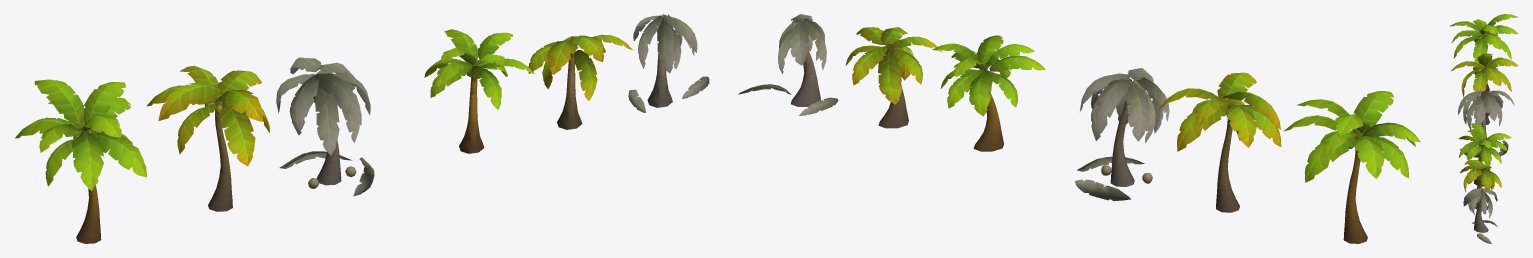
The model's file is SM_Coconut 1.fbx.
3 renders of one model, left to right at view 1: azimuth 30°, elevation 25°; view 2: azimuth 150°, elevation 25°; view 3: azimuth 270°, elevation 25°, orthographic. The views are drawn at different scales.
Parts seen in each view (by area): view 1: SM_Coconut2_good, SM_Coconut2_bad, SM_Coconut2_dead, polySurface18, polySurface1, polySurface7, polySurface30, polySurface26, polySurface21, polySurface3, polySurface31, polySurface8 (+14 smaller); view 2: SM_Coconut2_good, SM_Coconut2_bad, SM_Coconut2_dead, polySurface13, polySurface26, polySurface40, polySurface37, polySurface2, polySurface24, polySurface11, polySurface36, polySurface23 (+16 smaller); view 3: SM_Coconut2_good, SM_Coconut2_dead, SM_Coconut2_bad, polySurface33, polySurface35, polySurface19, polySurface6, polySurface20, polySurface22, polySurface4, polySurface3, polySurface1 (+19 smaller).
Part boxes in pixels (x1=…): SM_Coconut2_good: x1=424, y1=29, x2=534, y2=153; SM_Coconut2_bad: x1=528, y1=34, x2=632, y2=129; SM_Coconut2_dead: x1=633, y1=14, x2=697, y2=107; polySurface18: x1=219, y1=98, x2=255, y2=166; polySurface1: x1=72, y1=130, x2=103, y2=190; polySurface7: x1=34, y1=79, x2=83, y2=127; polySurface30: x1=315, y1=86, x2=339, y2=155; polySurface26: x1=208, y1=99, x2=232, y2=211; polySurface21: x1=158, y1=82, x2=222, y2=120; polySurface3: x1=88, y1=132, x2=147, y2=177; polySurface31: x1=315, y1=73, x2=361, y2=125; polySurface8: x1=84, y1=82, x2=125, y2=123; SM_Coconut2_good: x1=932, y1=35, x2=1045, y2=151; SM_Coconut2_bad: x1=845, y1=27, x2=942, y2=128; SM_Coconut2_dead: x1=778, y1=14, x2=826, y2=106; polySurface13: x1=1343, y1=134, x2=1367, y2=243; polySurface26: x1=1216, y1=103, x2=1239, y2=212; polySurface40: x1=1110, y1=79, x2=1134, y2=186; polySurface37: x1=1125, y1=81, x2=1150, y2=141; polySurface2: x1=1353, y1=91, x2=1393, y2=134; polySurface24: x1=1177, y1=104, x2=1228, y2=151; polySurface11: x1=1304, y1=135, x2=1356, y2=182; polySurface36: x1=1095, y1=79, x2=1129, y2=123; polySurface23: x1=1223, y1=105, x2=1256, y2=147; SM_Coconut2_good: x1=1458, y1=123, x2=1511, y2=186; SM_Coconut2_dead: x1=1463, y1=187, x2=1497, y2=232; SM_Coconut2_bad: x1=1460, y1=160, x2=1501, y2=209; polySurface33: x1=1480, y1=91, x2=1497, y2=121; polySurface35: x1=1473, y1=97, x2=1486, y2=125; polySurface19: x1=1481, y1=66, x2=1501, y2=86; polySurface6: x1=1473, y1=36, x2=1488, y2=63; polySurface20: x1=1473, y1=69, x2=1487, y2=91; polySurface22: x1=1487, y1=58, x2=1518, y2=67; polySurface4: x1=1482, y1=34, x2=1501, y2=49; polySurface3: x1=1453, y1=35, x2=1480, y2=58; polySurface1: x1=1451, y1=30, x2=1481, y2=43.
Size of the model in its own units: 1113 by 225 by 195.
3 materials, 3 textured.
